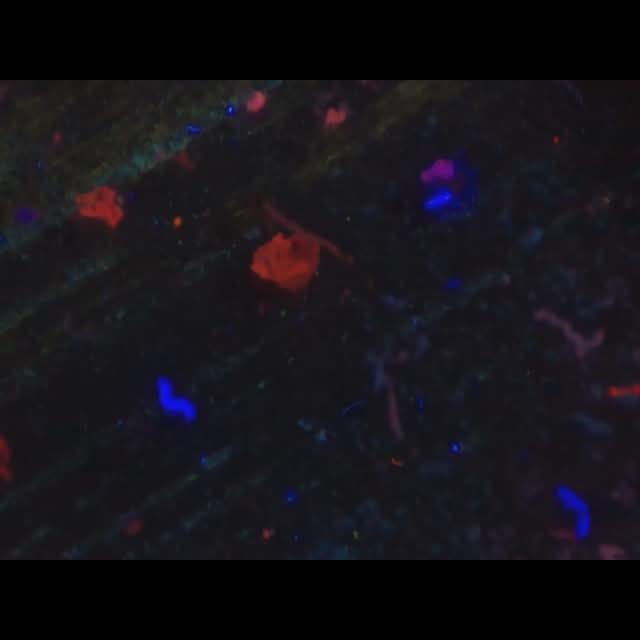Fragment: (75, 186, 123, 228)
